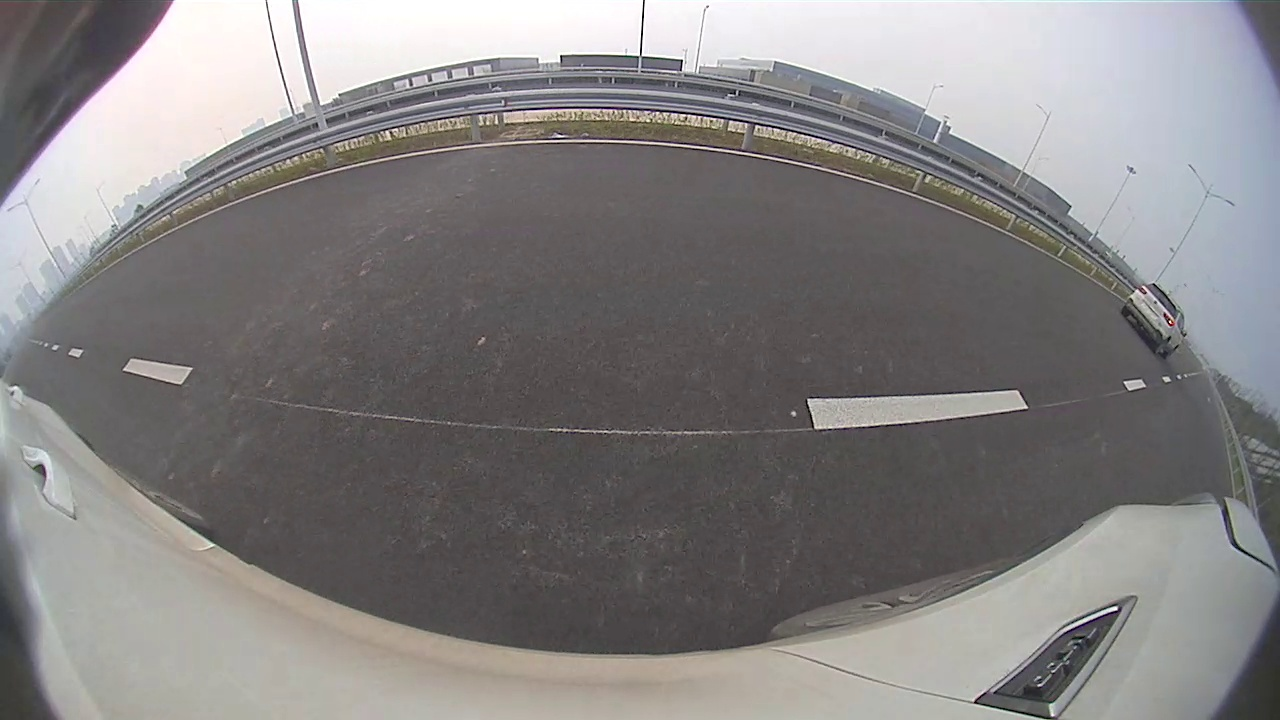car: (626, 120, 752, 215)
front: (628, 176, 635, 202)
rear: (638, 177, 647, 214)
